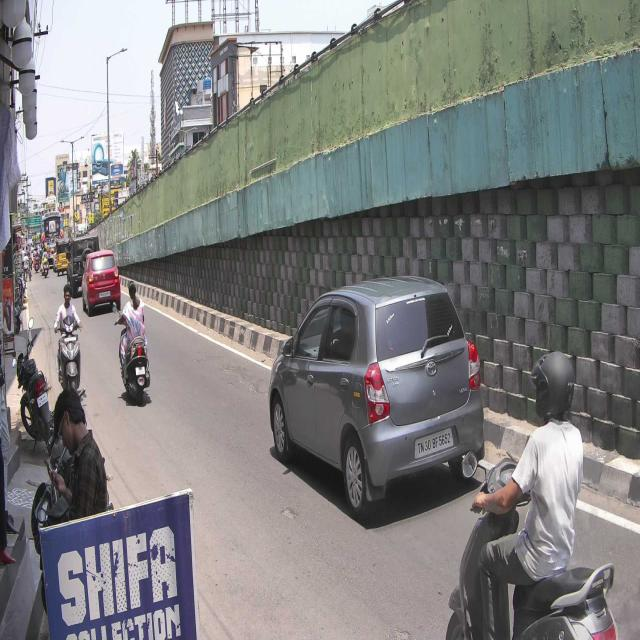single_rider: (446, 351, 622, 640), (114, 280, 150, 406), (54, 281, 85, 395)
